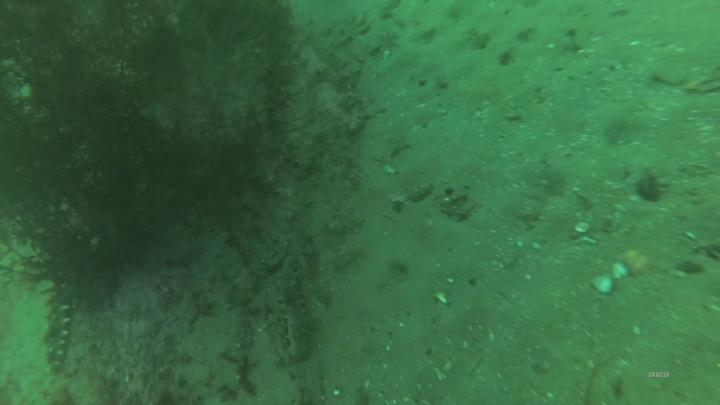holothurian: (277, 256, 324, 366), (42, 287, 76, 374)
waterweeds: (1, 1, 296, 284)
